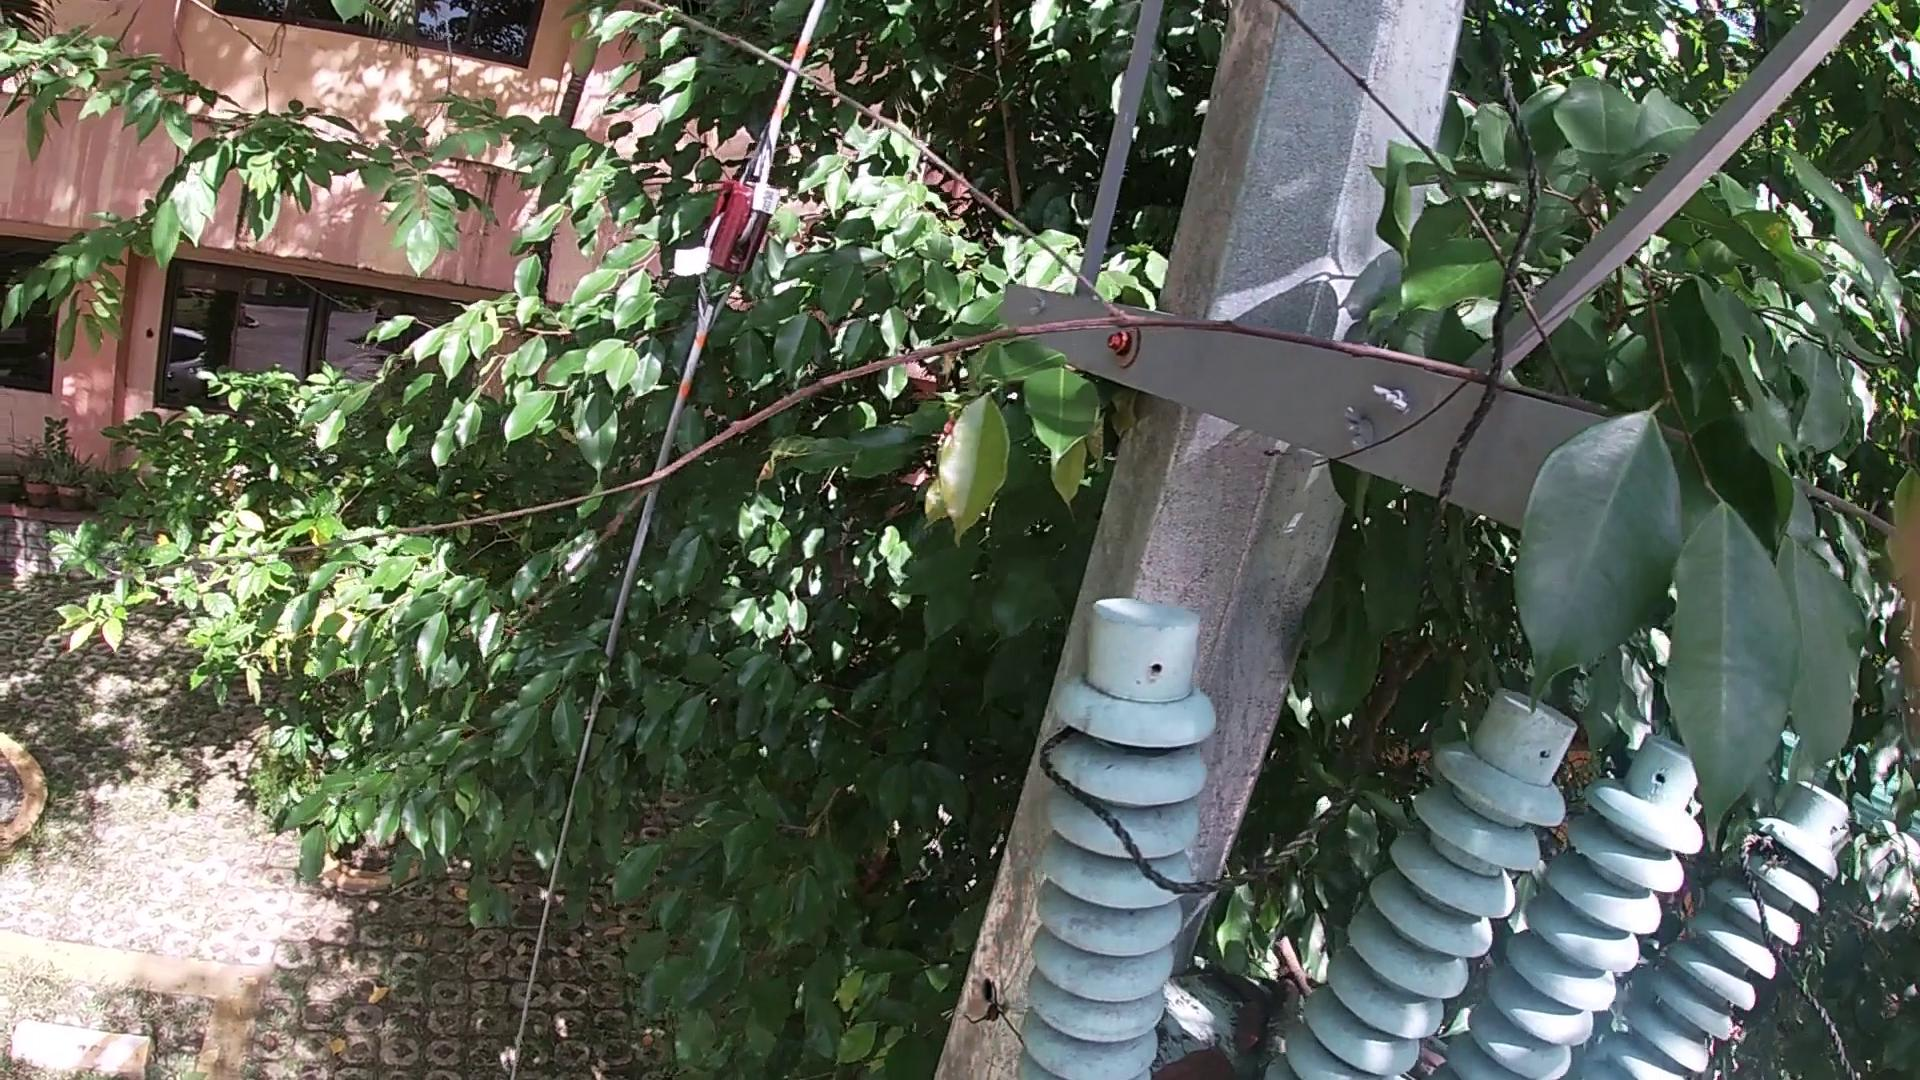leaf: (1153, 1040, 1233, 1080), (1234, 982, 1278, 1052)
tree branch: (1, 12, 1920, 674), (1273, 964, 1309, 1055), (1274, 932, 1316, 1000)
